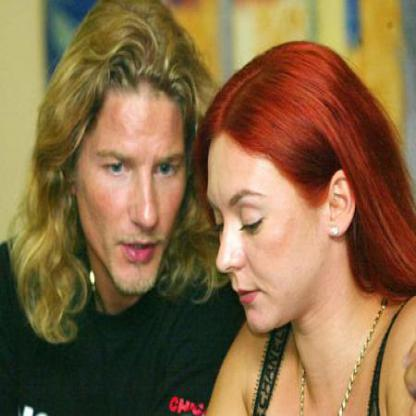face: (194, 99, 325, 339), (79, 43, 195, 298)
